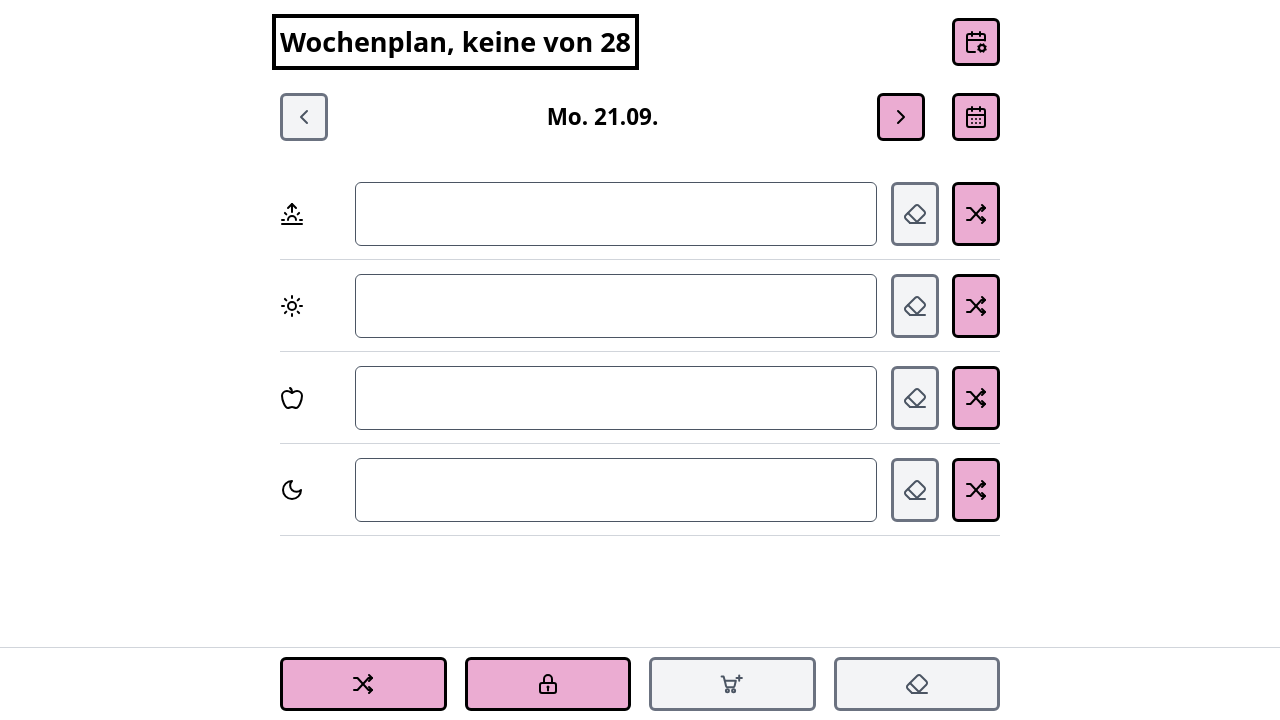
Test case: WeekPlanArea › suggests the meals that match what was typed
In the field named "Frühstück": (616, 214) x1=355 y1=182 x2=877 y2=246, type "p"
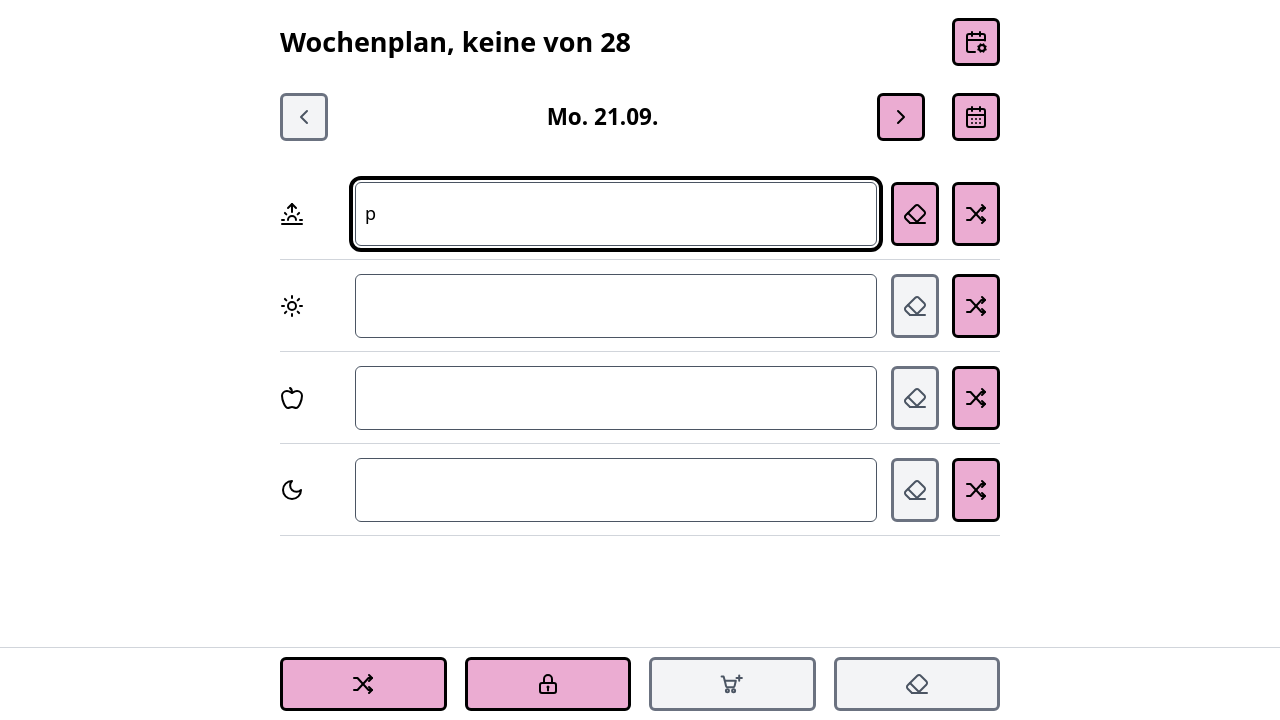
Replace the text in the field named "Frühstück" with "pi": (616, 214) x1=355 y1=182 x2=877 y2=246
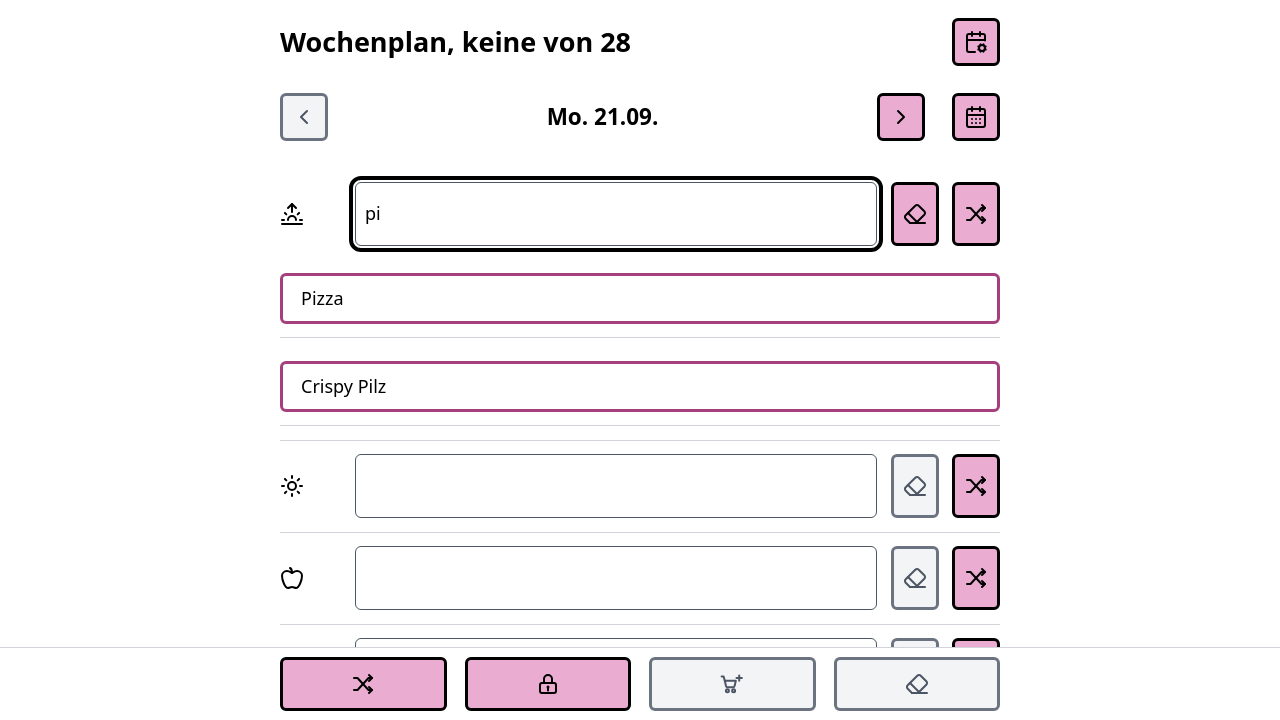
Expected: the buttons read "Pizza", "Crispy Pilz", in this order, x1=280 y1=272 x2=1000 y2=324; x1=280 y1=360 x2=1000 y2=412
